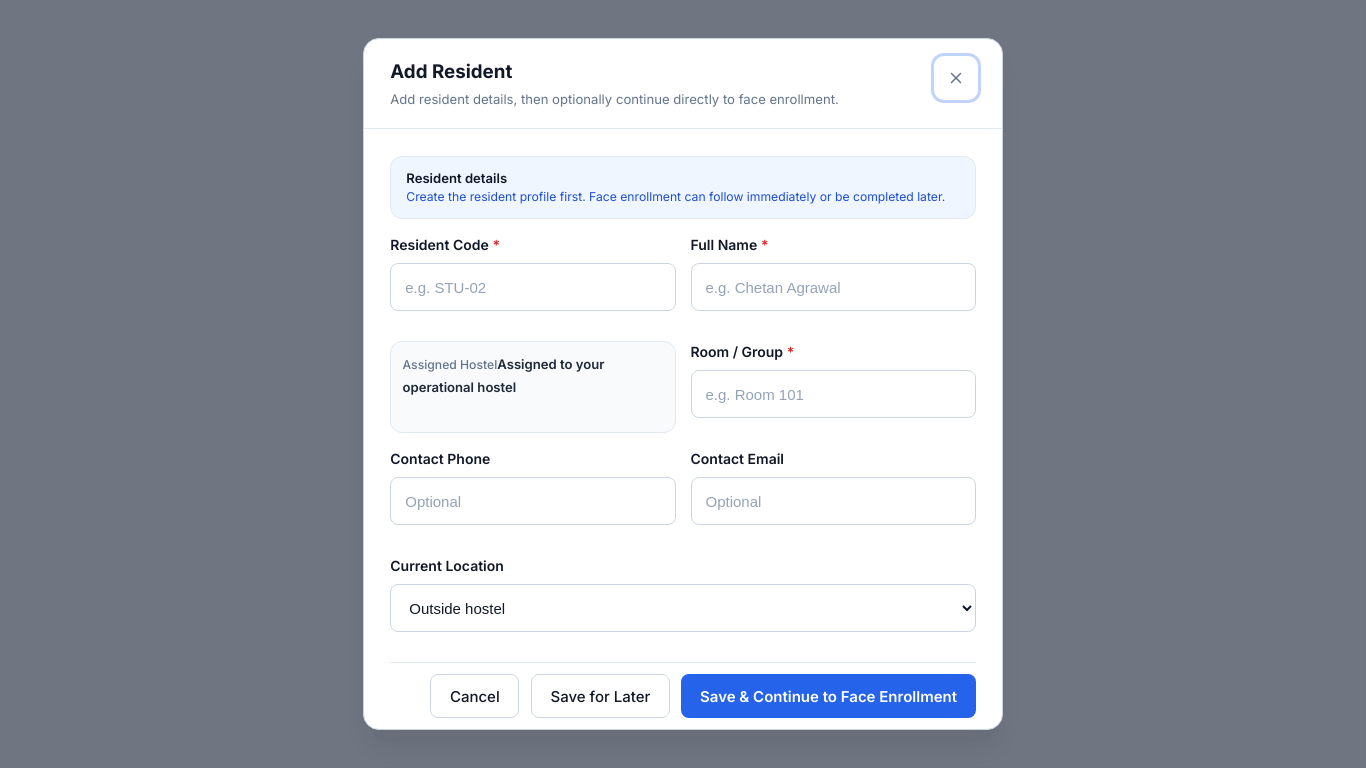
Test: Resident Operations & Modals › Create Resident Workflow › validates mandatory fields and blocks submission when empty
Click the button with aria-label "create resident".
click(600, 696)  # box [531,674,670,718]
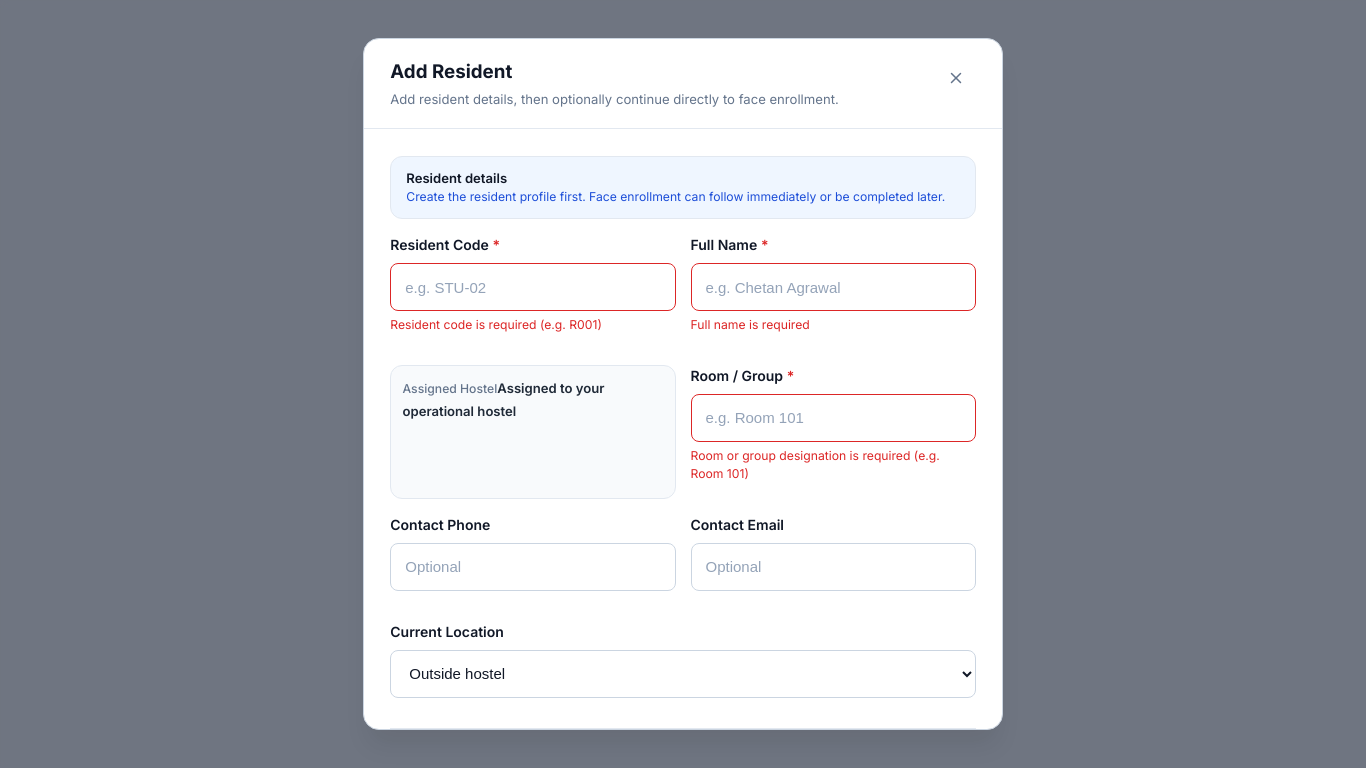
Check: the text "Resident code is required (e.g. R001)" is shown, box [390,318,602,332]
Check: the text "Full name is required" is shown, box [690,318,810,332]
Check: the text "Room or group designation is required (e.g. Room 101)" is shown, box [690,447,976,484]
